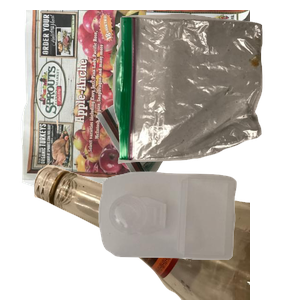glass: (31, 120, 271, 300)
paper: (18, 10, 258, 190)
plastic: (96, 169, 300, 300)
trash: (110, 11, 300, 167)
